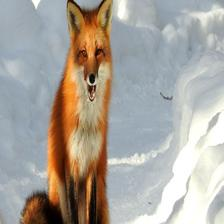fox: (14, 0, 127, 224)
